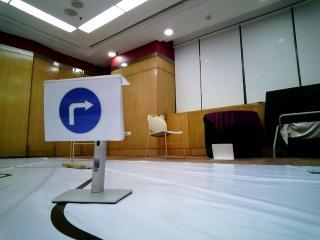right: (42, 85, 112, 134)
